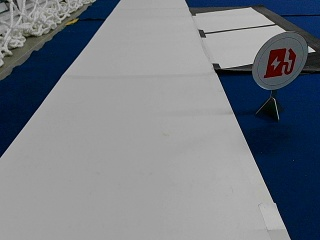battery: (252, 31, 307, 90)
